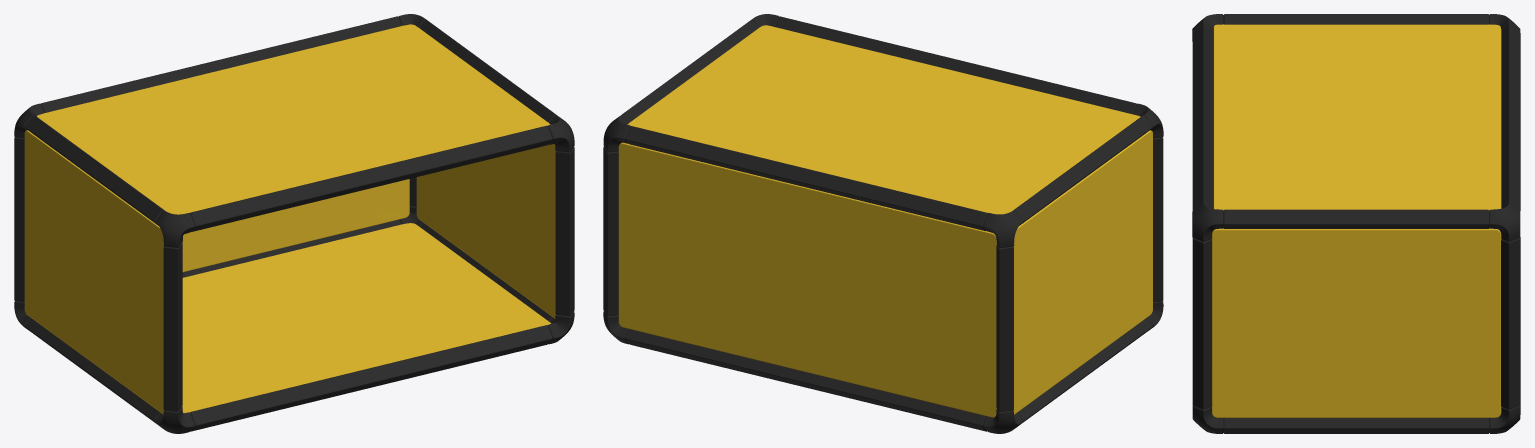
The picture shows the model from 3 angles, left to right: view 1: azimuth 30°, elevation 25°; view 2: azimuth 150°, elevation 25°; view 3: azimuth 270°, elevation 25°; orthographic projection. The views are drawn at different scales.
Parts seen in each view (by area): view 1: 523x329x229; view 2: 523x329x229; view 3: 523x329x229.
Part boxes in pixels (bbox=[...]): 523x329x229: bbox=[14, 14, 574, 433]; 523x329x229: bbox=[603, 14, 1163, 433]; 523x329x229: bbox=[1192, 14, 1520, 433].
Bounding box in the file's own units: 0.6007 × 0.3066 × 0.4063.
